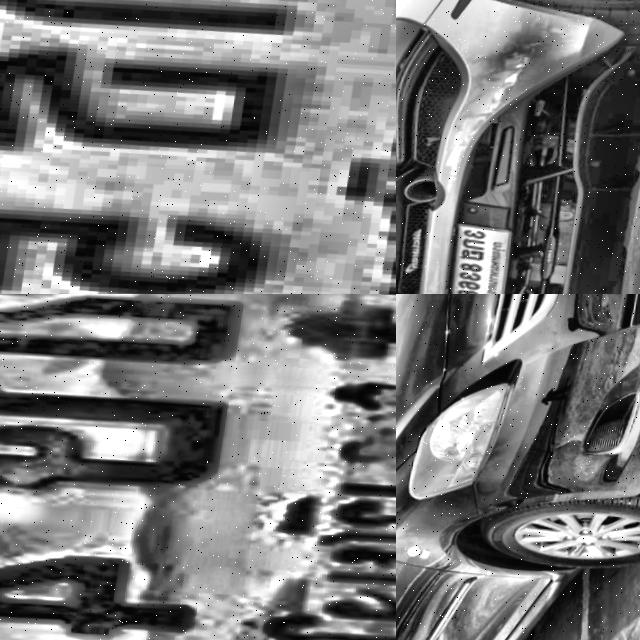license-plate: (0, 294, 396, 640), (0, 0, 396, 294), (446, 220, 524, 294)
